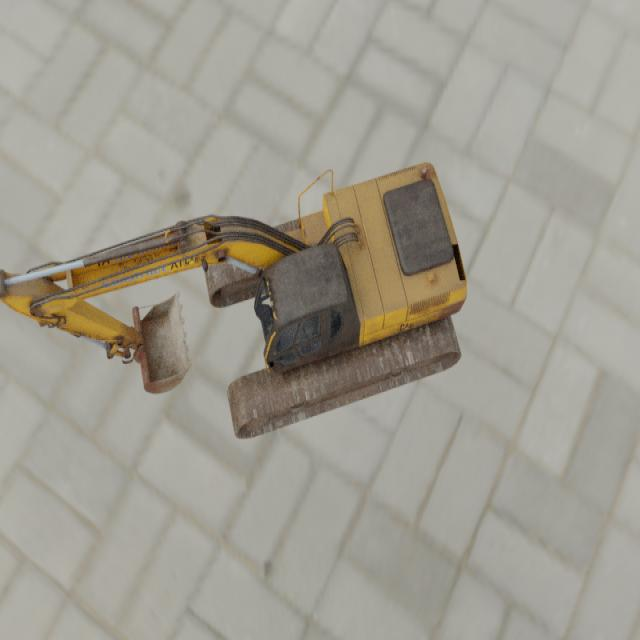excavator: (0, 161, 468, 439)
